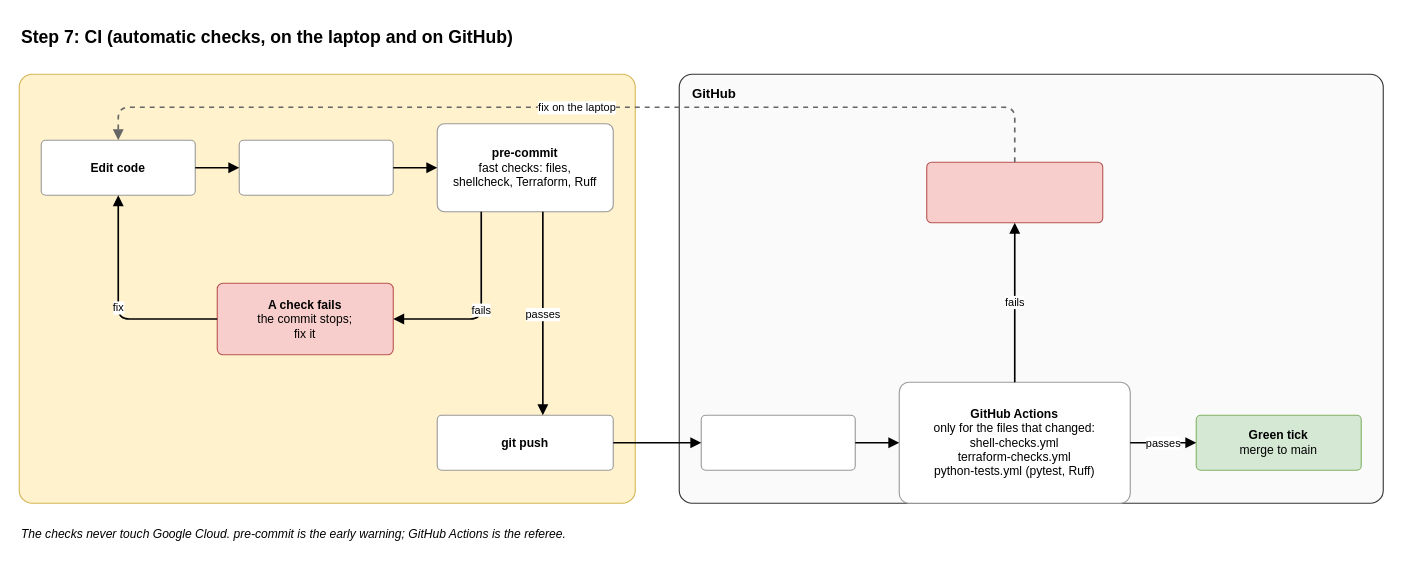
This 1403x565 diagram has some shape labels left out. The box of each missing label's shape, as (x1, y1, x2, y2) in pixels:
git commit: (238, 139, 393, 195)
Laptop: (18, 73, 635, 503)
Pull request: (700, 414, 855, 470)
Red cross fix on the laptop: (926, 161, 1103, 223)
